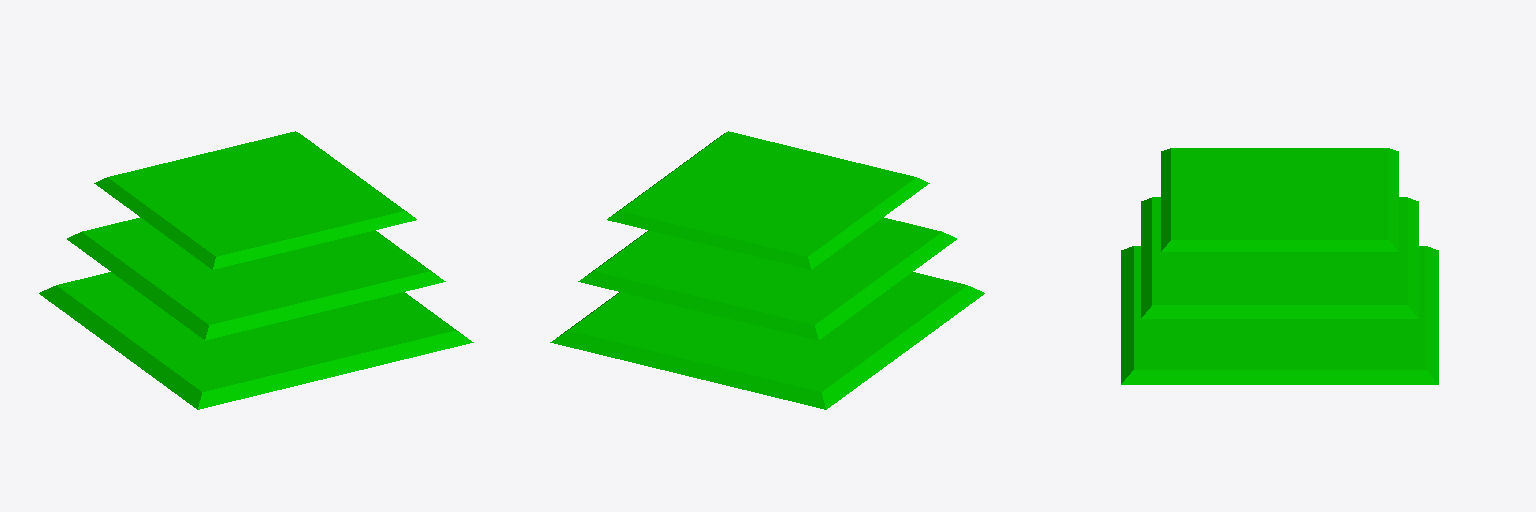
File: GreedModuleLamp(LG)(1).obj
3 renders of one model, left to right at view 1: azimuth 30°, elevation 25°; view 2: azimuth 150°, elevation 25°; view 3: azimuth 270°, elevation 25°, orthographic.
Parts seen in each view (by area): view 1: GreenLight_Cube.101; view 2: GreenLight_Cube.101; view 3: GreenLight_Cube.101.
Boxes of the visible parts, x1=… form: GreenLight_Cube.101: x1=39, y1=131, x2=473, y2=409; GreenLight_Cube.101: x1=550, y1=131, x2=984, y2=409; GreenLight_Cube.101: x1=1121, y1=148, x2=1438, y2=384.
Size of the model in its own units: 14.9 by 6.39 by 14.9.